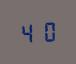four: (19, 21, 37, 44)
zero: (38, 20, 56, 42)
